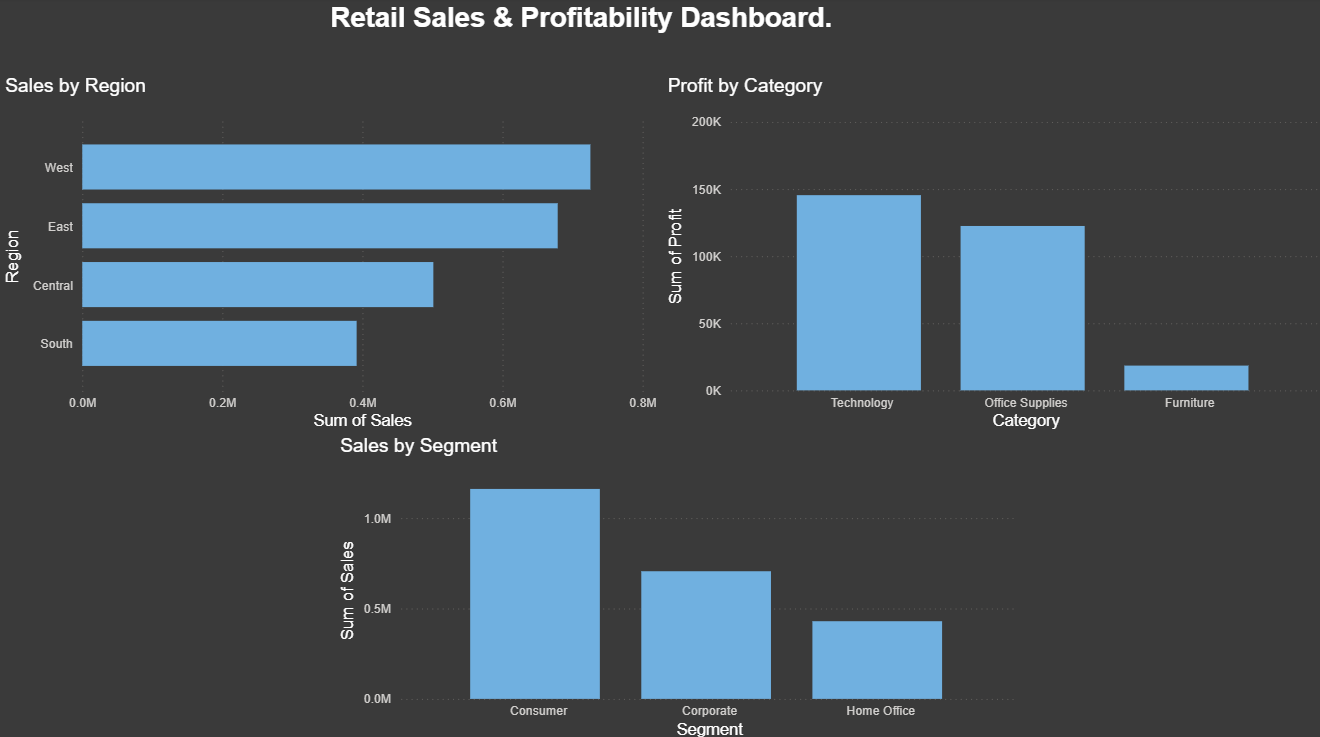

What the dashboard file says about the page in this screenshot:
{"tool":"powerbi","page":{"name":"sales_2","canvas":[1280,720],"ordinal":1},"visuals":[{"type":"clusteredBarChart","title":"Sales by Region","fields":{"Category":["Sample - Superstore.Region"],"Y":["Sum(Sample - Superstore.Sales)"]},"box":[0,74.8,639.4,347.5],"z":5000},{"type":"clusteredColumnChart","title":"Profit by Category","fields":{"Y":["Sum(Sample - Superstore.Profit)"],"Category":["Sample - Superstore.Category"]},"box":[639.4,74.8,640.6,347.5],"z":7000},{"type":"clusteredColumnChart","title":"Sales by Segment","fields":{"Category":["Sample - Superstore.Segment"],"Y":["Sum(Sample - Superstore.Sales)"]},"box":[323.8,422.6,664.2,297.8],"z":8000},{"type":"textbox","box":[313.7,0,612.9,74.8],"z":9000}]}

Visuals, with their boxes in screenshot pixels (x1, y1, x2, y2), scaled from the page's 1280x720 canvas onto the 1320x737 screenshot:
"Sales by Region" clusteredBarChart: crop(0, 77, 659, 432)
"Profit by Category" clusteredColumnChart: crop(659, 77, 1319, 432)
"Sales by Segment" clusteredColumnChart: crop(334, 433, 1019, 736)
textbox: crop(324, 0, 956, 77)
